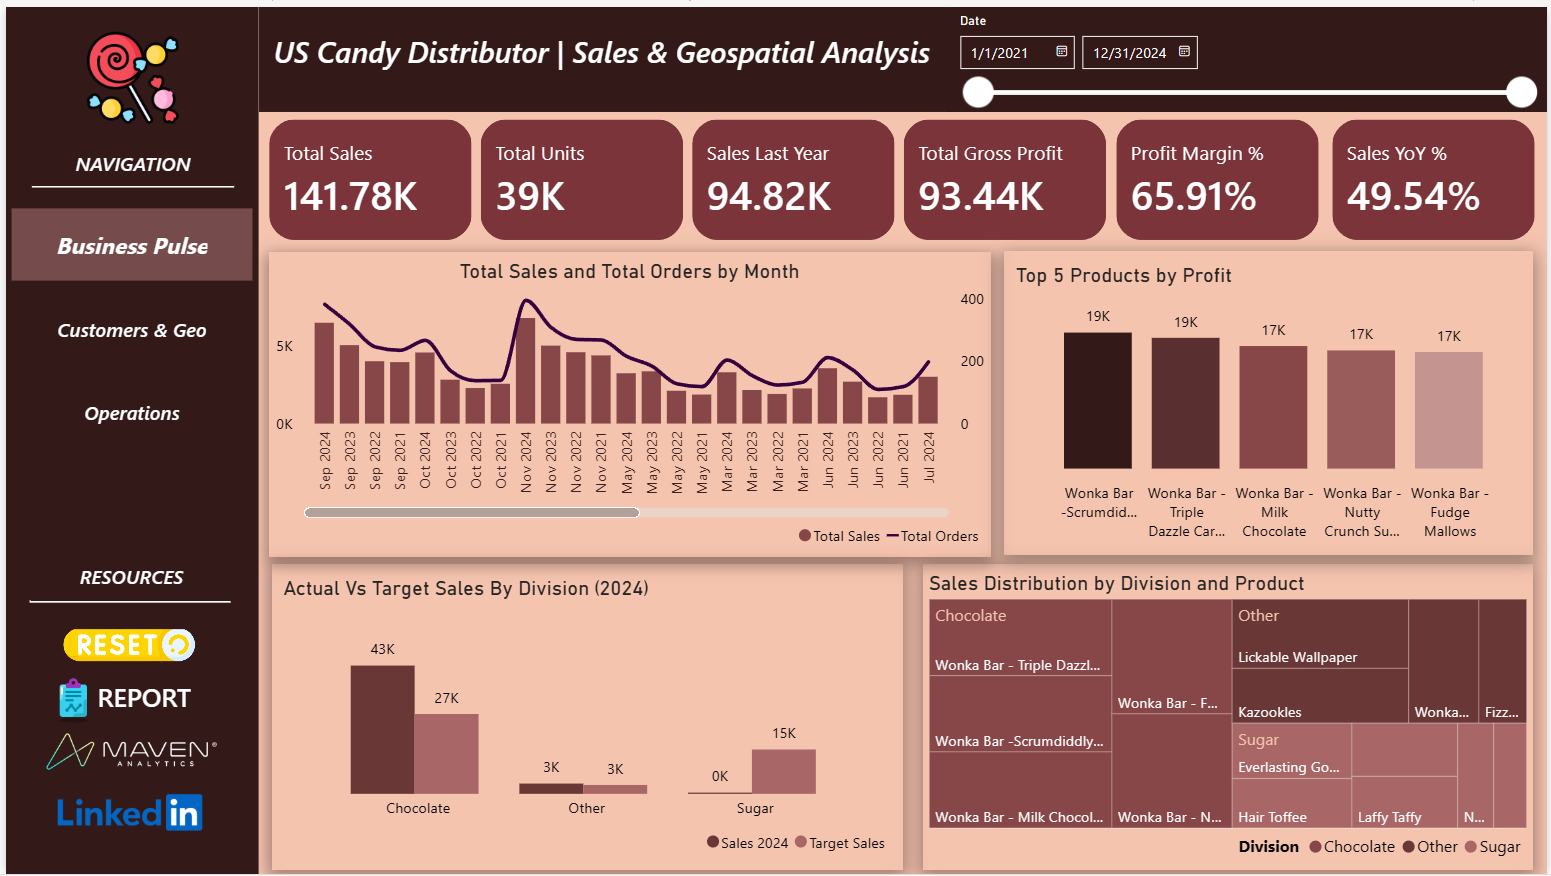

This screenshot's page, from the dashboard's own definition file:
{"tool":"powerbi","page":{"name":"Business Pulse","canvas":[1280,720],"ordinal":0},"visuals":[{"type":"shape","box":[210.1,0,1069.9,87],"z":0},{"type":"shape","box":[0,0,210,720.5],"z":1000},{"type":"image","box":[43.2,649.6,120.1,39.6],"z":2000},{"type":"image","box":[33.6,596.8,141.7,43.2],"z":3000},{"type":"textbox","box":[70.8,553.5,104.5,40.8],"z":4000},{"type":"image","box":[40.8,557.1,30,37.2],"z":5000},{"type":"image","box":[48,516.3,109.3,26.4],"z":6000},{"type":"shape","box":[19.2,487.5,166.9,12],"z":7000},{"type":"textbox","box":[20.9,457,167.4,36],"z":8000},{"type":"pageNavigator","box":[4.8,166.9,200.5,200.5],"z":9000},{"type":"shape","box":[21.6,142.9,168.1,12],"z":10000},{"type":"textbox","box":[21.6,114.1,168.1,34.8],"z":11000},{"type":"image","box":[64.8,20.4,81.7,76.8],"z":12000},{"type":"textbox","box":[210.1,0,569,87],"z":13000},{"type":"slicer","fields":{"Values":["Calendar.Date"]},"box":[779.1,0,500.9,87],"z":14000},{"type":"cardVisual","fields":{"Data":["Measure.Total Sale"]},"box":[218.6,93,168,100],"z":15000},{"type":"cardVisual","fields":{"Data":["Measure.Total Units"]},"box":[394.2,93,168,100],"z":16000},{"type":"cardVisual","fields":{"Data":["Measure.Sales Last Year"]},"box":[569.8,93,168,100],"z":17000},{"type":"cardVisual","fields":{"Data":["Measure.Total Gross Profit"]},"box":[745.4,93,168,100],"z":18000},{"type":"cardVisual","fields":{"Data":["Measure.Profit Margin %"]},"box":[922.1,93,168,100],"z":19000},{"type":"cardVisual","fields":{"Data":["Measure.Sales YoY %"]},"box":[1101.2,93,168.6,100],"z":20000},{"type":"lineClusteredColumnComboChart","title":"Total Sales and Total Orders by Month","fields":{"Y":["Measure.Total Sales"],"Category":["Calendar.Month"],"Y2":["Measure.Total Orders"]},"box":[218.6,203.5,598.8,253.5],"z":21000},{"type":"treemap","title":"Sales Distribution by Division and Product","fields":{"Group":["Candy_Products.Division"],"Details":["Candy_Products.Product Name"],"Values":["Measure.Log Sales"]},"box":[761.6,462.4,506.3,253.9],"z":22000},{"type":"columnChart","title":"Top 5 Products by Profit","fields":{"Category":["Candy_Sales.Product Name"],"Y":["Measure.Total Gross Profit"]},"box":[828.8,203.1,439.1,252.5],"z":23000},{"type":"clusteredColumnChart","title":"Actual Vs Target Sales By Division (2024)","fields":{"Y":["Measure.Sales 2024","Sum(Candy_Targets.Target)"],"Category":["Candy_Targets.Division"]},"box":[220.9,462.4,524.2,253.9],"z":24000}]}

Visuals, with their boxes in screenshot pixels (x1, y1, x2, y2), scaled from the page's 1280x720 canvas onto the 1551x876 screenshot:
shape: pyautogui.locateOnScreen(255, 0, 1550, 106)
shape: pyautogui.locateOnScreen(0, 0, 254, 875)
image: pyautogui.locateOnScreen(52, 790, 198, 839)
image: pyautogui.locateOnScreen(41, 726, 212, 779)
textbox: pyautogui.locateOnScreen(86, 673, 212, 723)
image: pyautogui.locateOnScreen(49, 678, 86, 723)
image: pyautogui.locateOnScreen(58, 628, 191, 660)
shape: pyautogui.locateOnScreen(23, 593, 226, 608)
textbox: pyautogui.locateOnScreen(25, 556, 228, 600)
pageNavigator: pyautogui.locateOnScreen(6, 203, 249, 447)
shape: pyautogui.locateOnScreen(26, 174, 230, 188)
textbox: pyautogui.locateOnScreen(26, 139, 230, 181)
image: pyautogui.locateOnScreen(79, 25, 178, 118)
textbox: pyautogui.locateOnScreen(255, 0, 944, 106)
slicer - Calendar.Date: pyautogui.locateOnScreen(944, 0, 1550, 106)
cardVisual - Measure.Total Sale: pyautogui.locateOnScreen(265, 113, 468, 235)
cardVisual - Measure.Total Units: pyautogui.locateOnScreen(478, 113, 681, 235)
cardVisual - Measure.Sales Last Year: pyautogui.locateOnScreen(690, 113, 894, 235)
cardVisual - Measure.Total Gross Profit: pyautogui.locateOnScreen(903, 113, 1107, 235)
cardVisual - Measure.Profit Margin %: pyautogui.locateOnScreen(1117, 113, 1321, 235)
cardVisual - Measure.Sales YoY %: pyautogui.locateOnScreen(1334, 113, 1539, 235)
"Total Sales and Total Orders by Month" lineClusteredColumnComboChart: pyautogui.locateOnScreen(265, 248, 990, 556)
"Sales Distribution by Division and Product" treemap: pyautogui.locateOnScreen(923, 563, 1536, 871)
"Top 5 Products by Profit" columnChart: pyautogui.locateOnScreen(1004, 247, 1536, 554)
"Actual Vs Target Sales By Division (2024)" clusteredColumnChart: pyautogui.locateOnScreen(268, 563, 903, 871)
